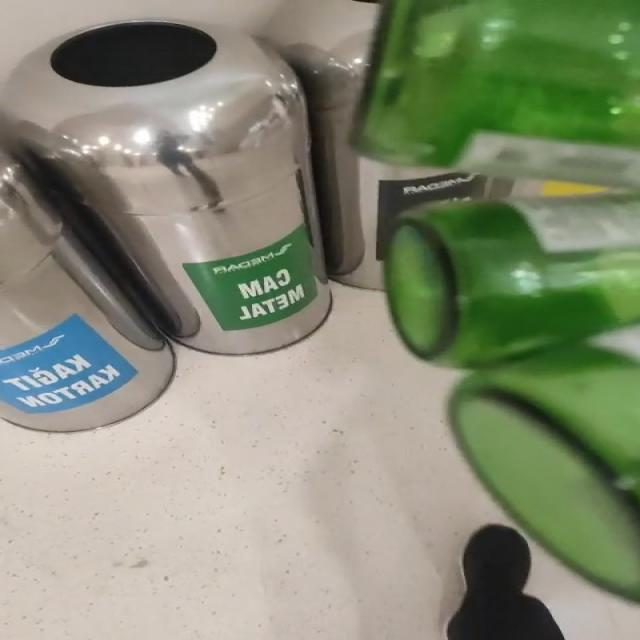glass: (355, 0, 640, 601)
